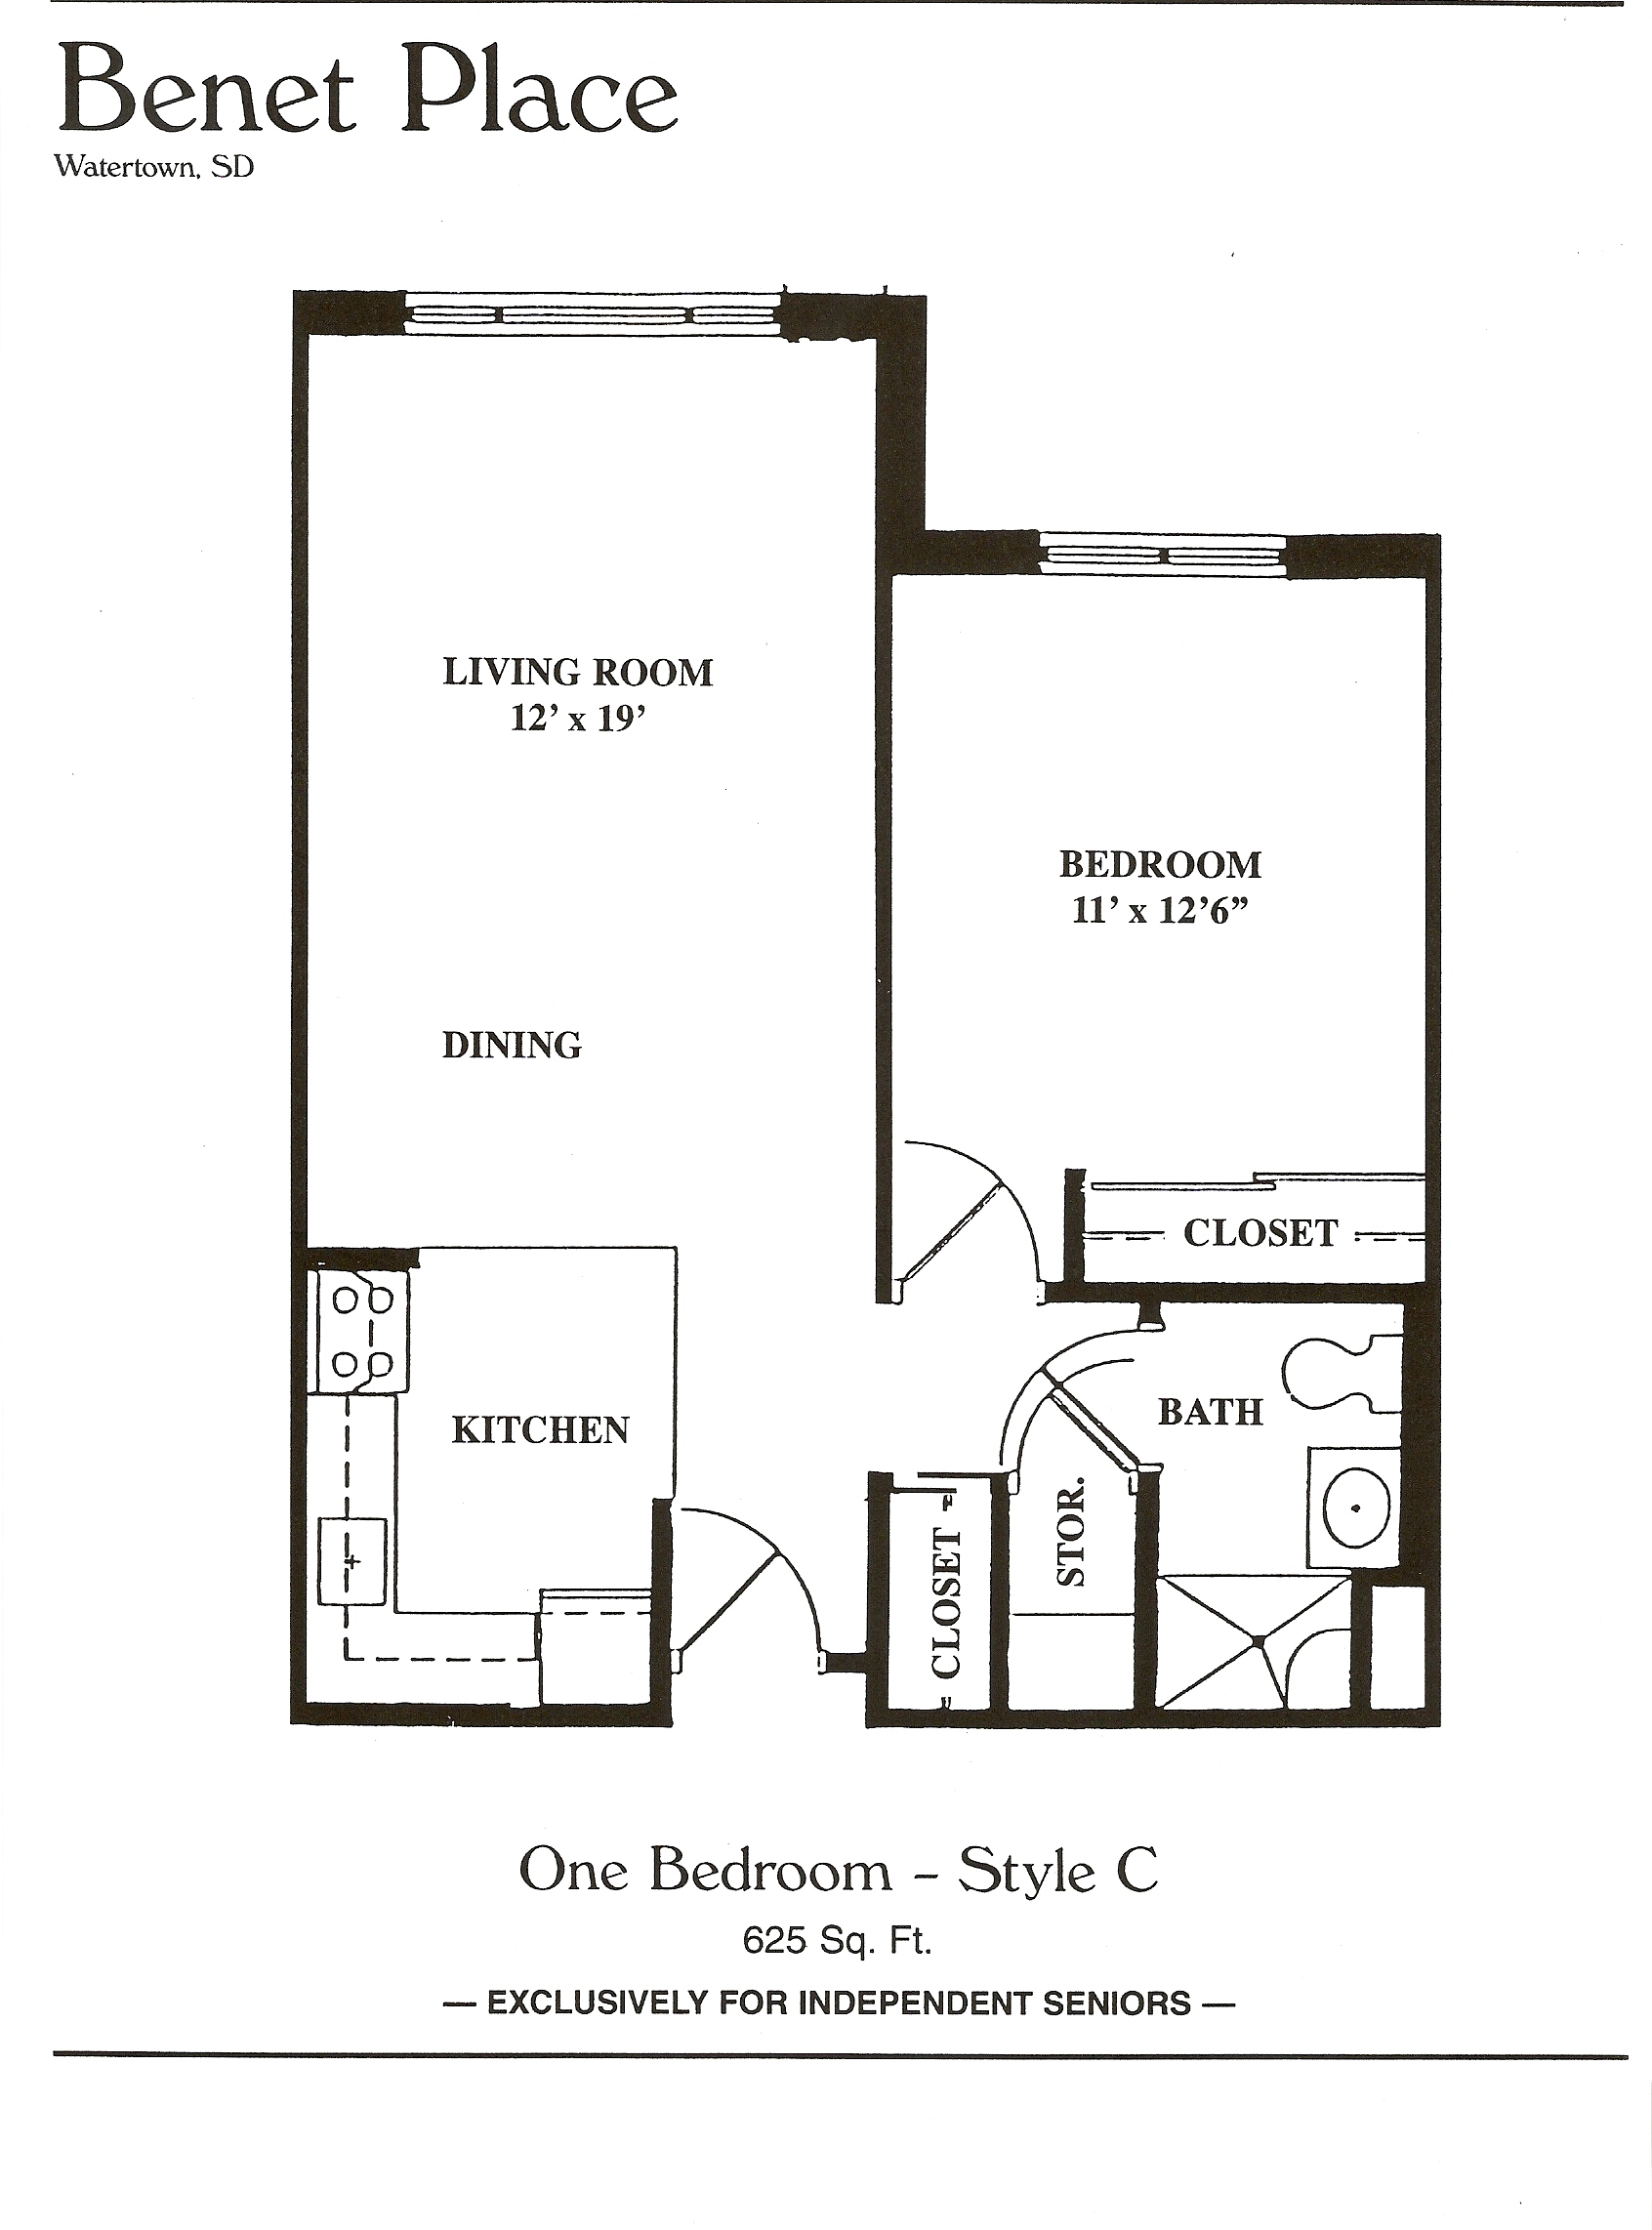wall: (880, 1706, 1440, 1722), (1426, 1314, 1440, 1725), (890, 581, 897, 1296), (304, 1701, 663, 1711), (297, 309, 300, 1265), (293, 1265, 300, 1704), (897, 302, 904, 574), (1291, 552, 1444, 564), (1149, 1484, 1156, 1713), (880, 1484, 887, 1706), (1008, 1487, 1012, 1706), (666, 1508, 670, 1704), (1067, 1296, 1423, 1298), (802, 305, 908, 309), (883, 557, 1032, 559)
